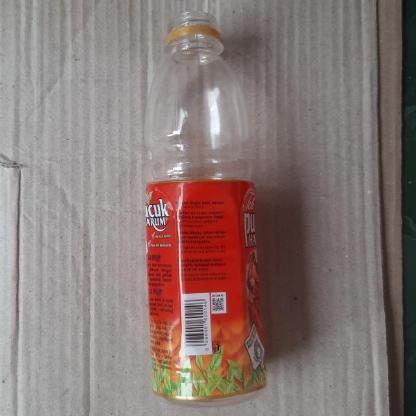Plastic Bottle: (144, 9, 268, 405)
